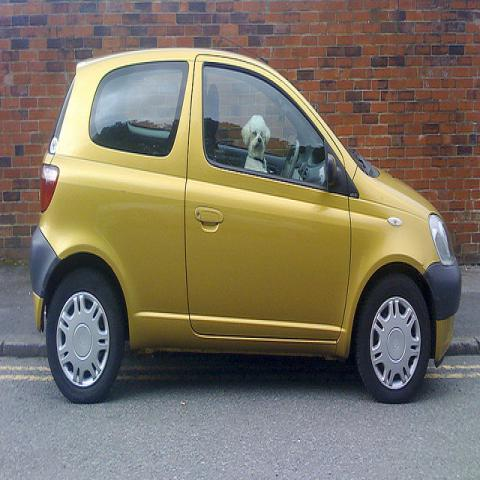car: (28, 41, 464, 416)
